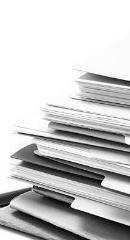paper: (8, 189, 130, 240), (72, 33, 130, 83)
